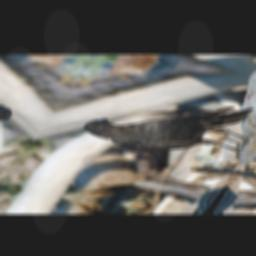Crow: (69, 88, 256, 165)
